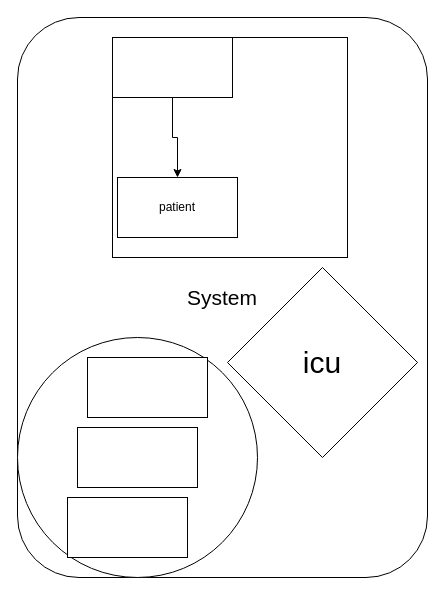
Image size: 445x595. Some labels were removed from this diagram. Each missing label, with the box of its shape:
doctors: (112, 36, 232, 98)
Hospital network: (112, 36, 348, 258)
